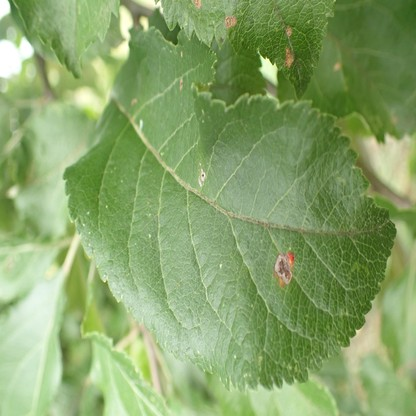rust: (273, 251, 294, 287)
